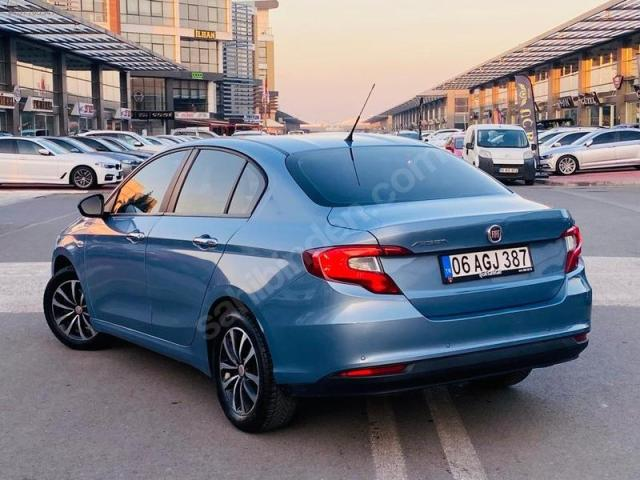plaka: (442, 246, 533, 283)
